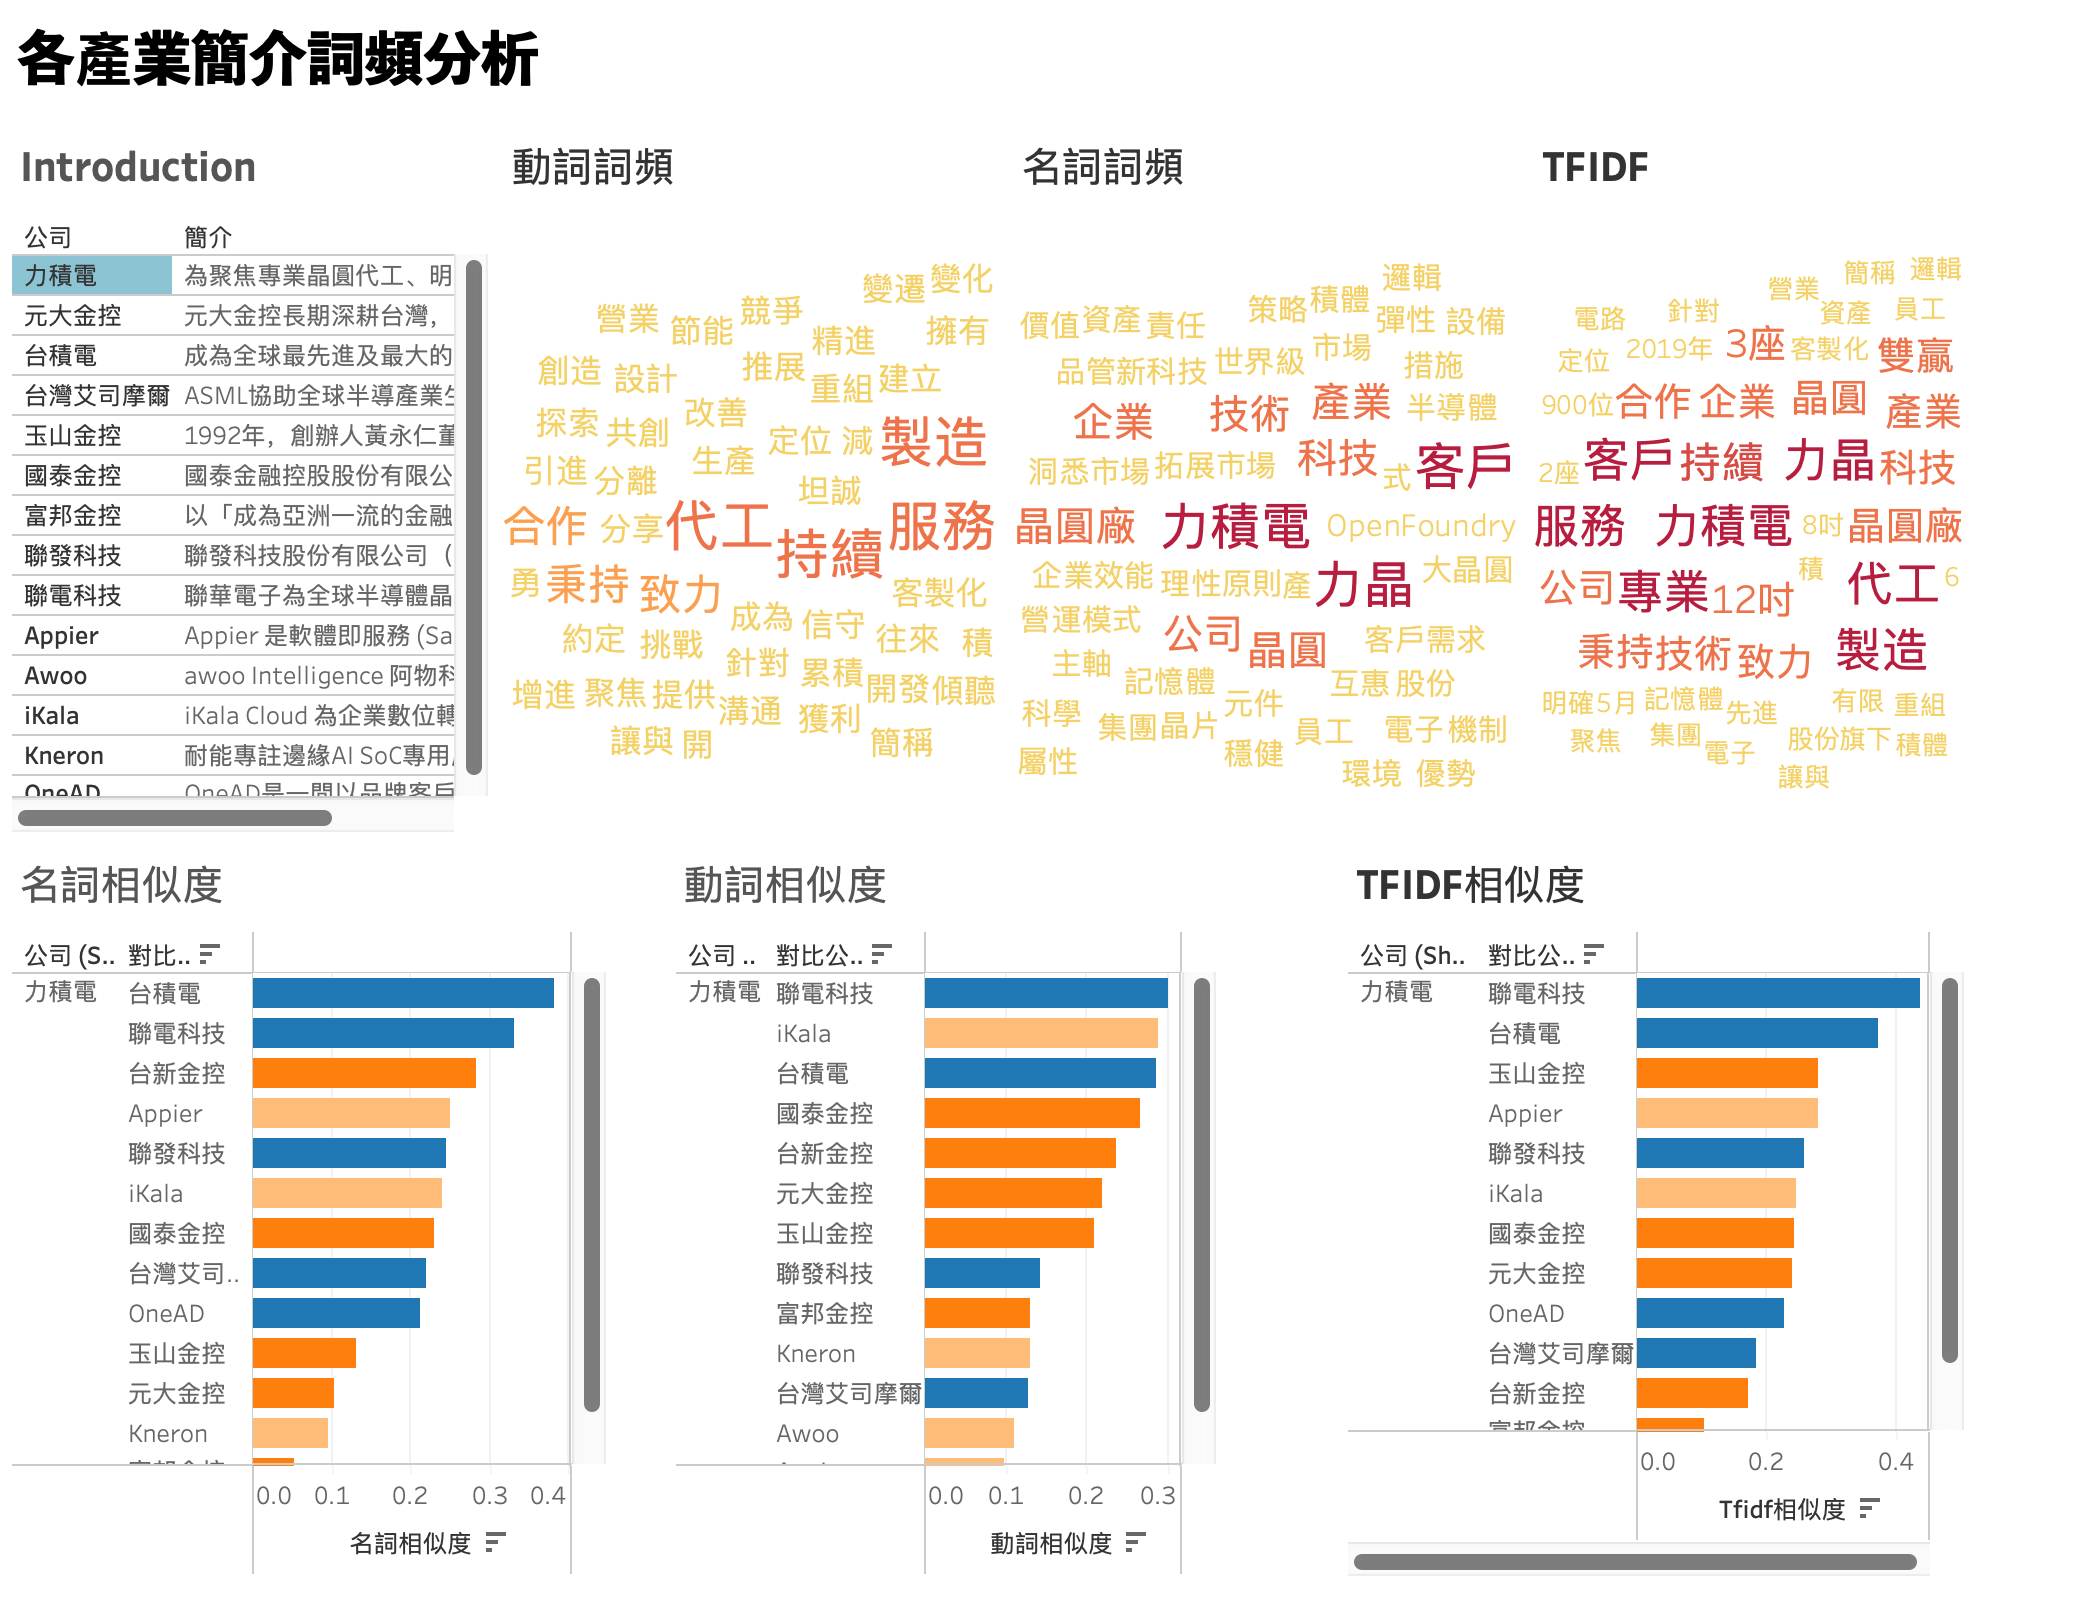

This screenshot's page, from the dashboard's own definition file:
{"tool":"tableau","page":{"name":"儀表板窗格 1","canvas":[1000,800],"ordinal":0},"visuals":[{"type":"text","box":[8,8,984,53]},{"type":"worksheet","title":"Introduction","mark":"Automatic","rows":["公司","簡介"],"box":[8,61,246,359]},{"type":"worksheet","title":"動詞詞頻","mark":"Text","box":[254,61,255,359]},{"type":"worksheet","title":"名詞詞頻","mark":"Text","box":[509,61,260,359]},{"type":"worksheet","title":"TFIDF","mark":"Text","box":[769,61,223,359]},{"type":"worksheet","title":"名詞相似度","mark":"Automatic","rows":["公司 (Sheet1)","對比公司"],"cols":["名詞相似度"],"box":[8,420,332,372]},{"type":"worksheet","title":"動詞相似度","mark":"Automatic","rows":["公司 (Sheet1)","對比公司"],"cols":["動詞相似度"],"box":[340,420,336,372]},{"type":"worksheet","title":"TFIDF相似度","mark":"Automatic","rows":["公司 (Sheet1)","對比公司"],"cols":["TFIDF相似度"],"box":[676,420,316,372]}]}

Visuals, with their boxes in screenshot pixels (x1, y1, x2, y2), scaled from the page's 1000x800 canvas onto the 2084x1624 screenshot:
text: [17, 16, 2067, 124]
"Introduction" worksheet: [17, 124, 529, 853]
"動詞詞頻" worksheet (Text marks): [529, 124, 1061, 853]
"名詞詞頻" worksheet (Text marks): [1061, 124, 1603, 853]
"TFIDF" worksheet (Text marks): [1603, 124, 2067, 853]
"名詞相似度" worksheet: [17, 853, 709, 1608]
"動詞相似度" worksheet: [709, 853, 1409, 1608]
"TFIDF相似度" worksheet: [1409, 853, 2067, 1608]
